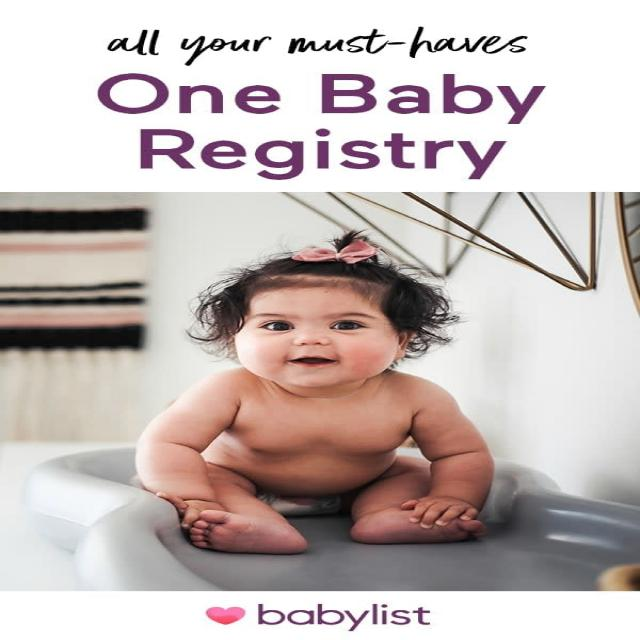child: (132, 243, 500, 560)
